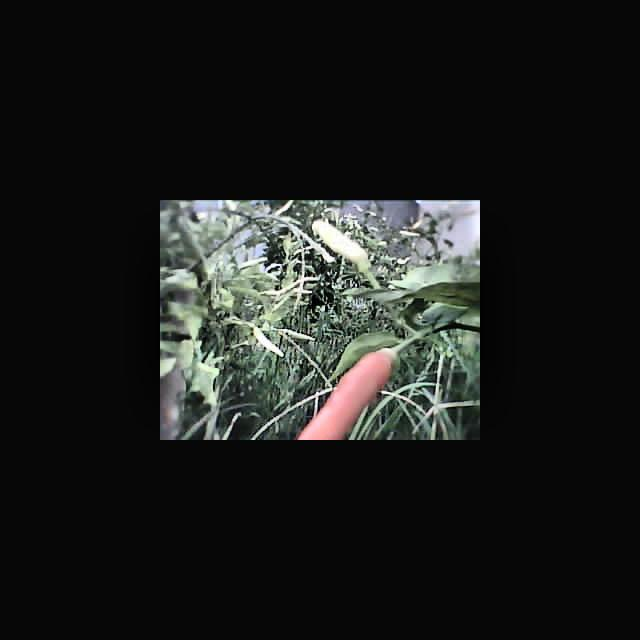Cabai: (299, 345, 393, 440)
